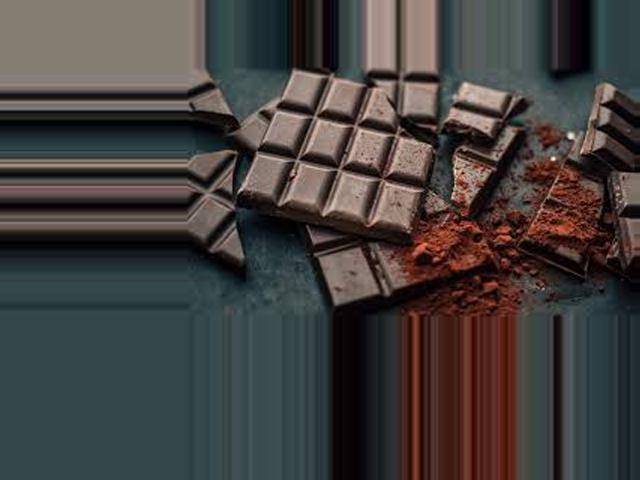chocolate: (231, 68, 431, 237)
